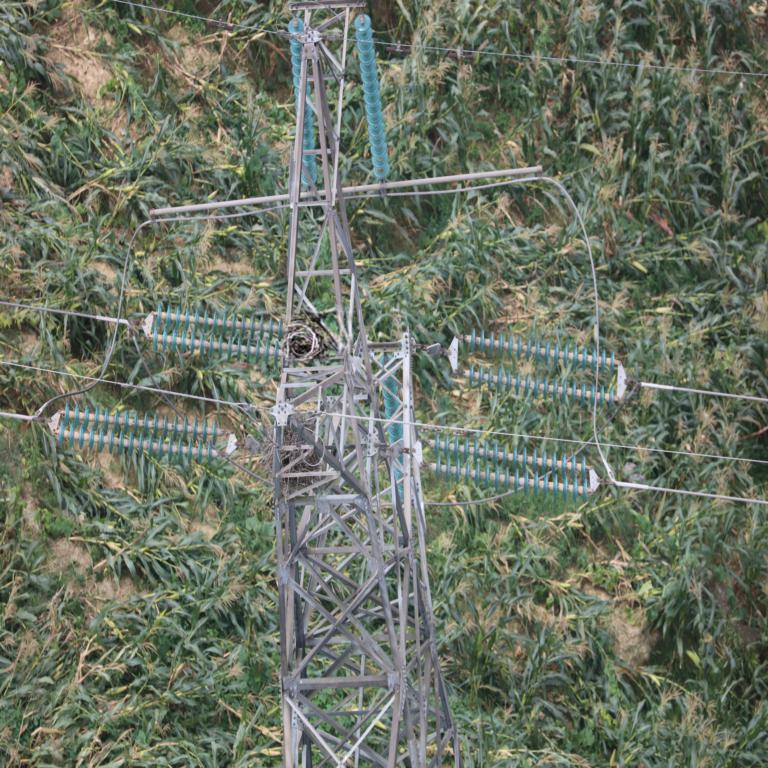nest: (267, 426, 326, 489), (280, 319, 327, 363)
